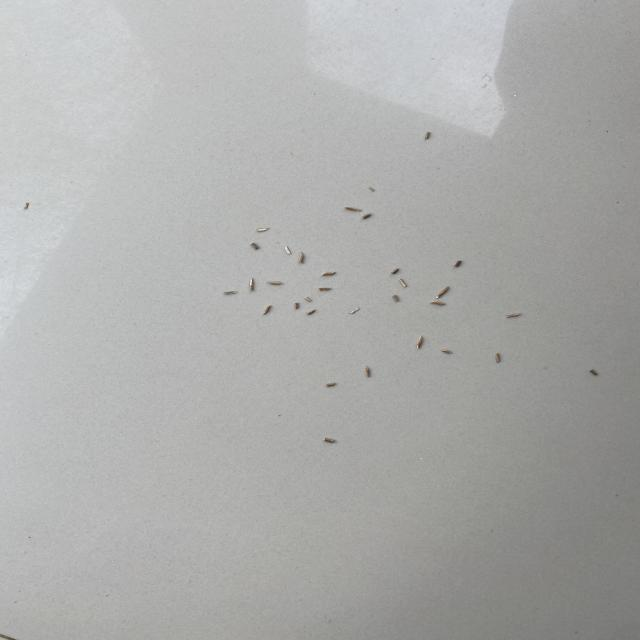Wereng: (417, 124, 440, 144), (253, 302, 280, 319), (364, 183, 386, 200), (248, 236, 266, 256), (412, 332, 430, 352), (252, 221, 277, 235), (313, 283, 337, 297), (585, 365, 609, 379), (433, 285, 453, 301), (361, 361, 377, 381), (319, 433, 342, 446), (217, 287, 244, 298), (450, 257, 468, 272), (266, 276, 284, 291), (500, 310, 526, 320), (244, 277, 260, 293), (319, 380, 342, 391), (346, 304, 365, 317), (291, 298, 305, 314), (440, 347, 457, 360), (336, 206, 367, 213), (296, 249, 308, 267), (389, 291, 404, 305), (388, 265, 404, 278), (21, 199, 35, 213), (321, 269, 338, 280), (307, 306, 322, 318), (494, 349, 504, 367), (302, 293, 316, 305), (282, 244, 292, 257), (362, 213, 376, 222), (399, 278, 409, 289)
